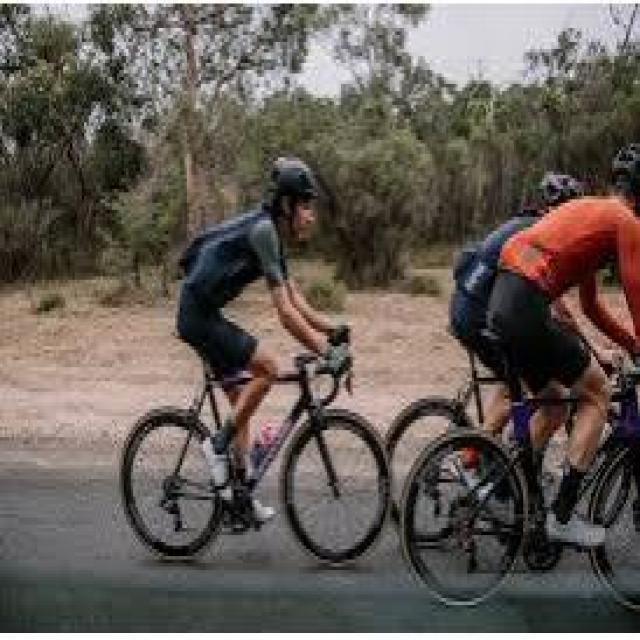bicycle: (393, 305, 640, 617), (127, 337, 387, 565), (384, 375, 482, 536)
